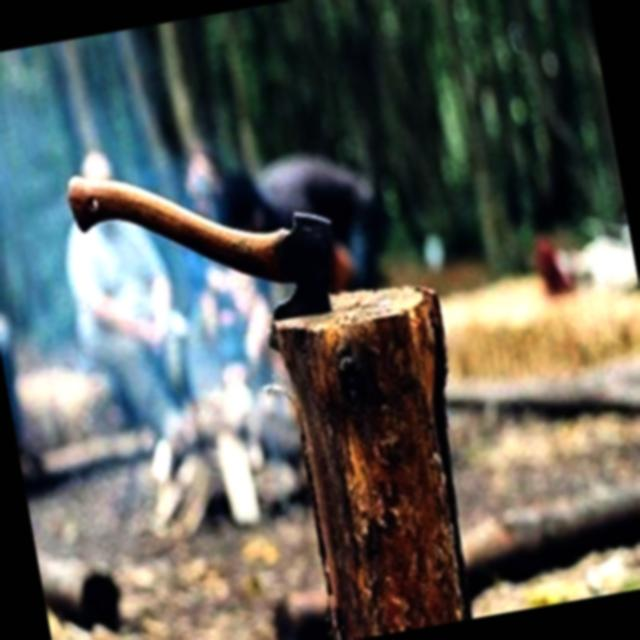ax: (46, 130, 358, 363)
